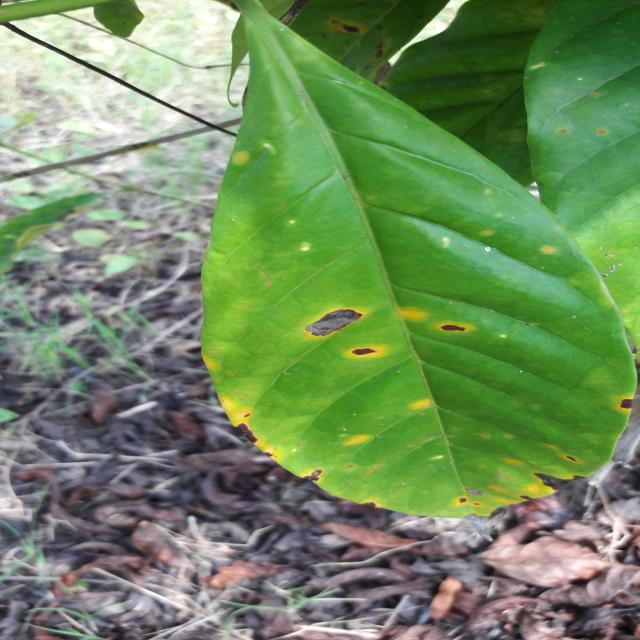Enfermedad-Roya: (199, 0, 639, 520)
